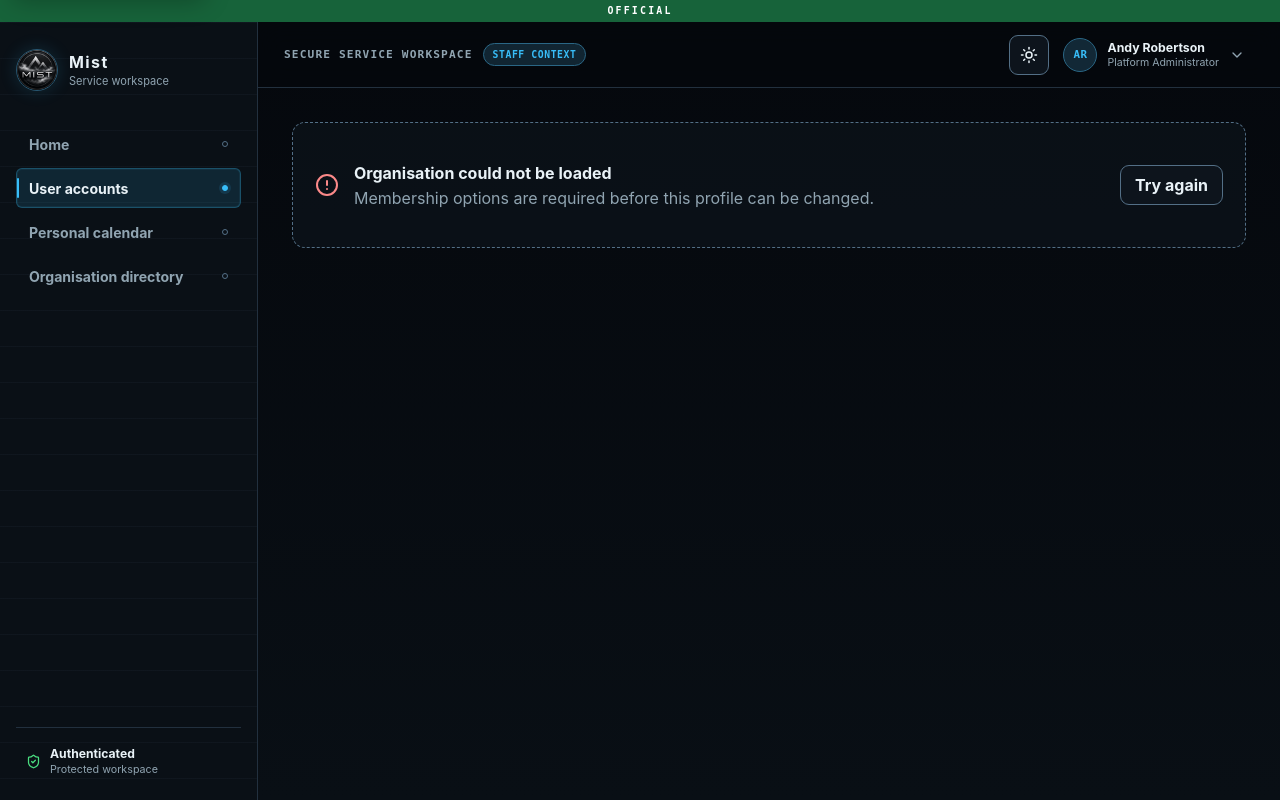
Test: platform administrator user management › requires organisation metadata before editing
This screenshot has width=1280, height=800.
Expected: the heading "Organisation could not be loaded" is shown, [354,162,612,182]
Click the button "Try again" at (1172, 185), box [1120,165,1223,205]
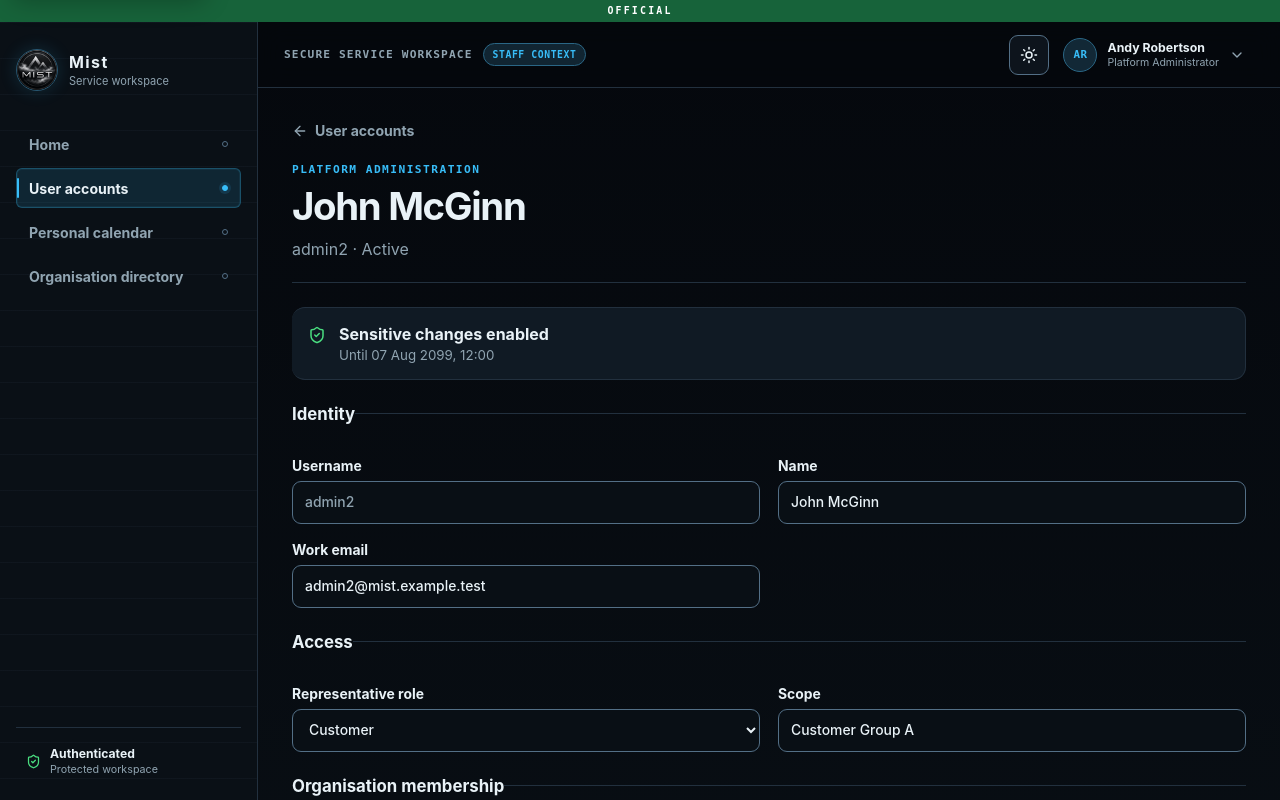
Result: the heading "John McGinn" is shown at [292,183,526,229]
